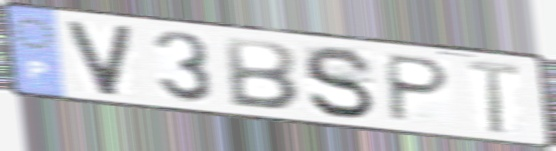3: (151, 29, 215, 106)
B: (223, 34, 301, 113)
P: (385, 51, 454, 125)
S: (300, 43, 380, 122)
T: (463, 57, 523, 137)
V: (62, 18, 137, 99)
